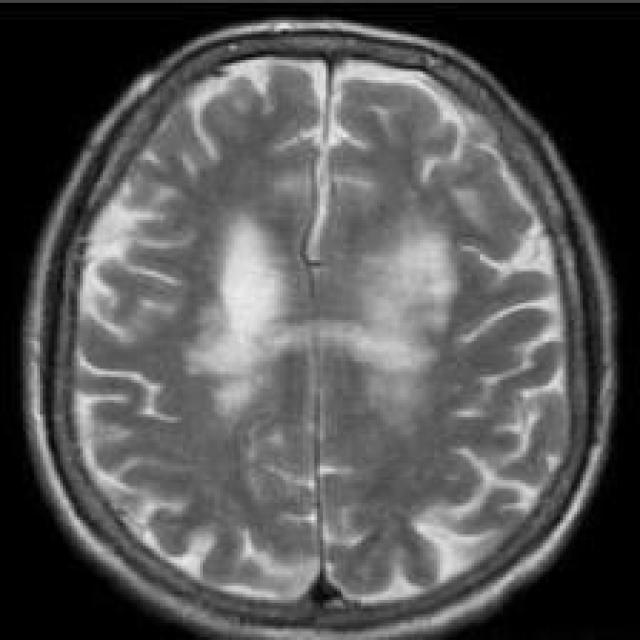no_tumor: (16, 18, 614, 640)
